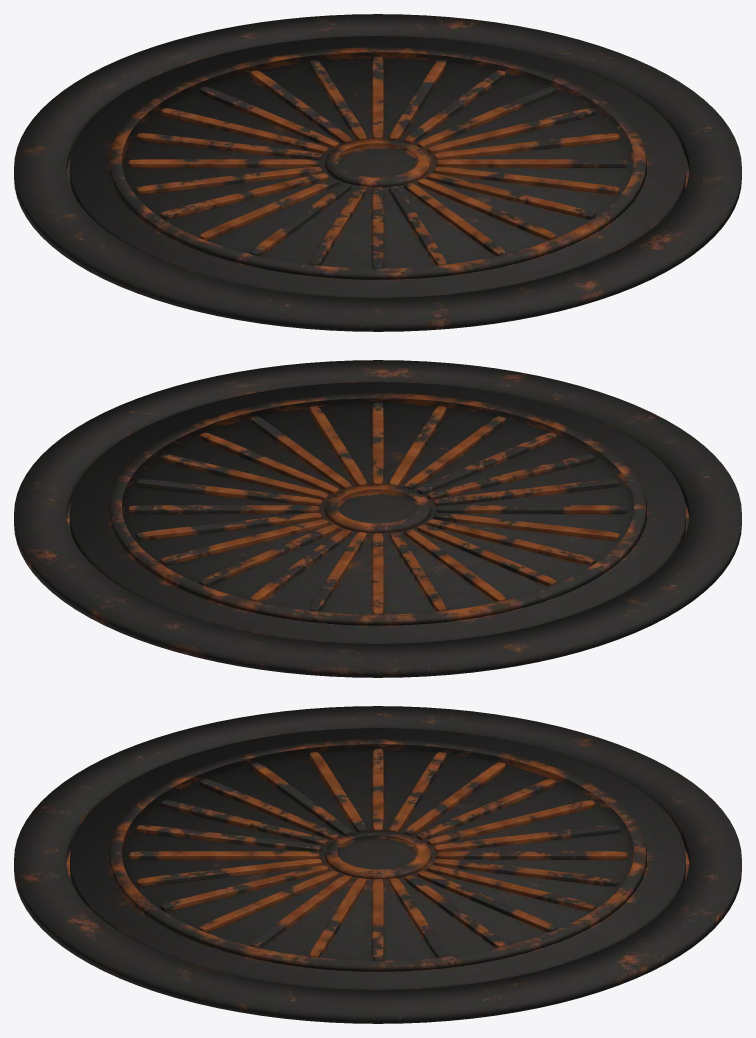
The model's file is round.glb.
The picture shows the model from 3 angles, top to bottom: view 1: azimuth 30°, elevation 25°; view 2: azimuth 150°, elevation 25°; view 3: azimuth 270°, elevation 25°; orthographic projection.
Visible parts, largest first — view 1: cast_iron; view 2: cast_iron; view 3: cast_iron.
Boxes of the visible parts, x1,y1,x2,y2 form: cast_iron: [14, 14, 741, 331]; cast_iron: [14, 360, 741, 677]; cast_iron: [14, 706, 741, 1023].
Bounding box in the file's own units: 0.78 × 0.021 × 0.78.
1 material, 1 textured.
